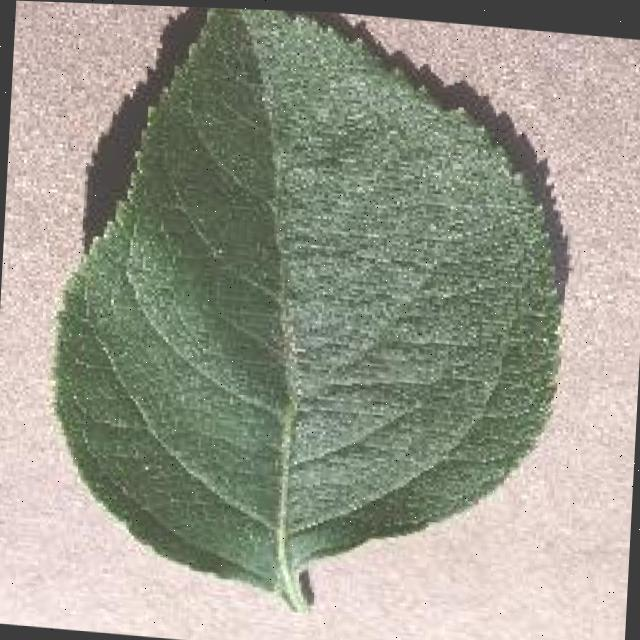healthy: (25, 1, 586, 640)
